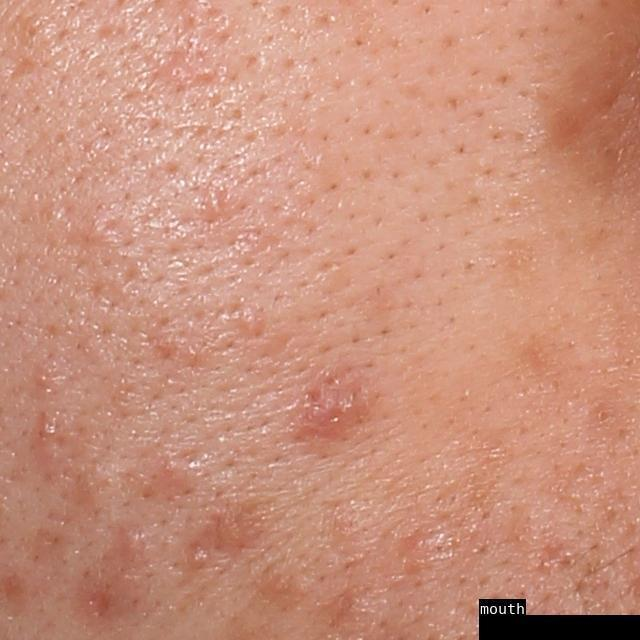comedo: (595, 404, 619, 430)
papule: (296, 385, 369, 438), (210, 506, 254, 555), (113, 526, 144, 559)
